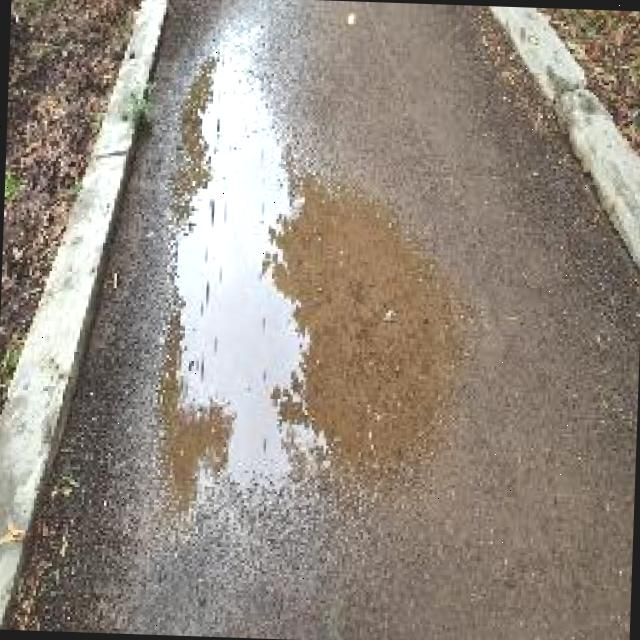stagnation: (143, 40, 505, 520)
